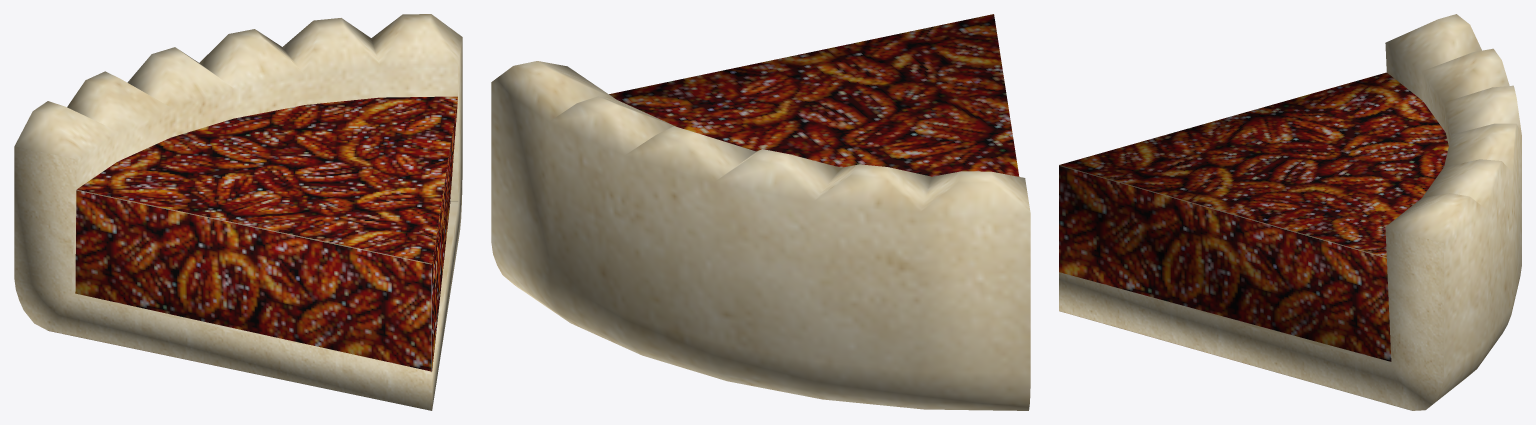
File: VFX_PieSlice.fbx
3 views of the same model, side by side, from view 1: azimuth 30°, elevation 25°; view 2: azimuth 150°, elevation 25°; view 3: azimuth 270°, elevation 25° (orthographic). The views are drawn at different scales.
Parts seen in each view (by area): view 1: Pie Slice Open; view 2: Pie Slice Open; view 3: Pie Slice Open.
Boxes of the visible parts, box(x1,y1,x2,y2) form: Pie Slice Open: box(14, 14, 462, 410); Pie Slice Open: box(491, 14, 1030, 410); Pie Slice Open: box(1059, 14, 1521, 410).
Size of the model in its own units: 0.12 by 0.0516 by 0.108.
